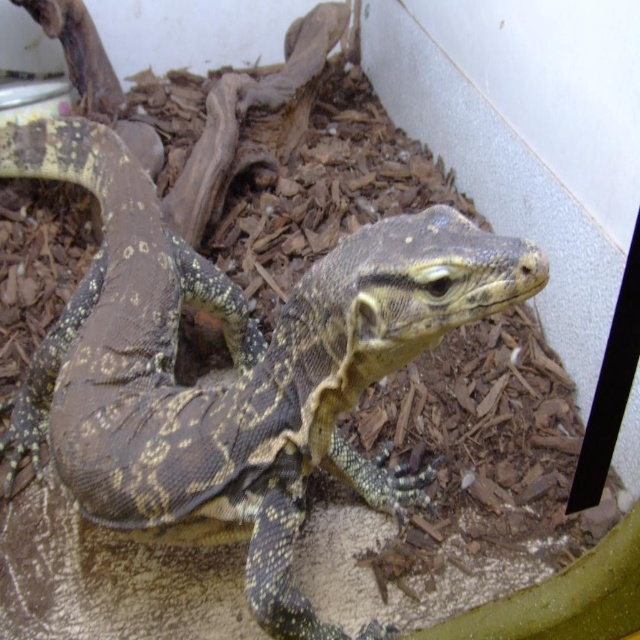Lizard: (14, 157, 556, 640)
